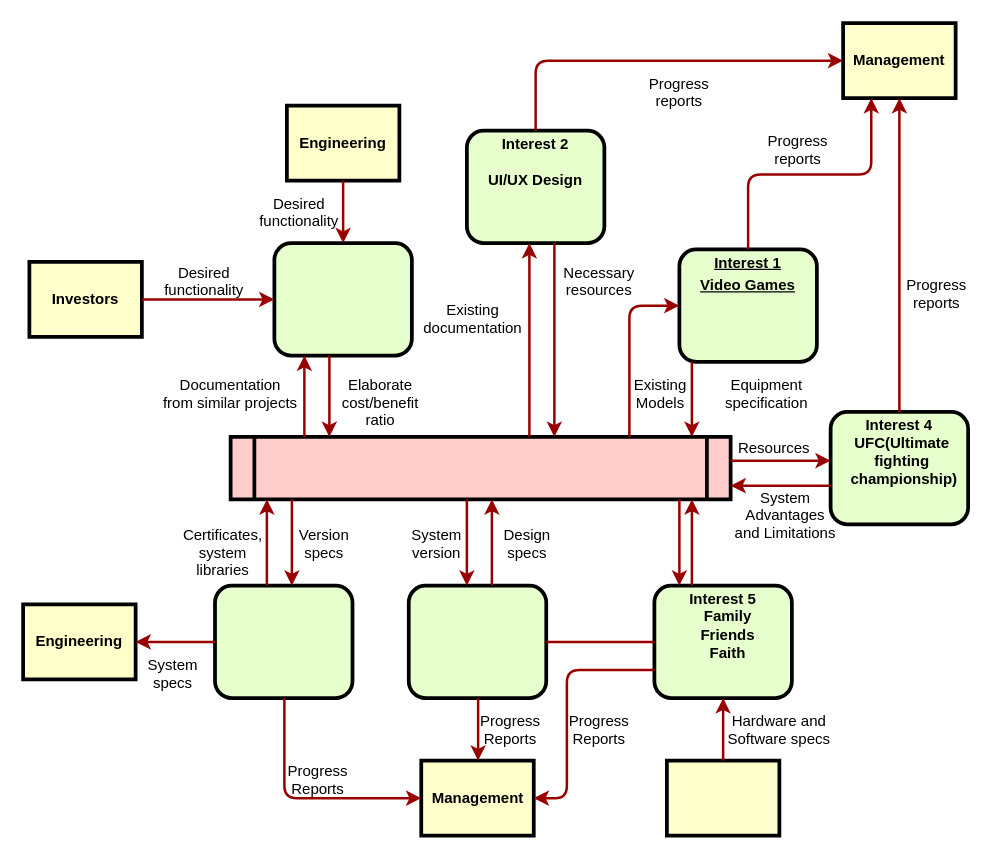
Some shapes in this 991 by 859 pixel diagram are drawn without their labels. Each missing label, with the centre of its shape:
"Interest 3 Technology" goes at (x=342, y=299).
"Interest 6 Downtime & Relaxtion" goes at (x=477, y=641).
"Interest 7 Fitness & Excersise" goes at (x=283, y=641).
"Simi Oyin" goes at (x=480, y=467).
"Vendors" goes at (x=722, y=797).
